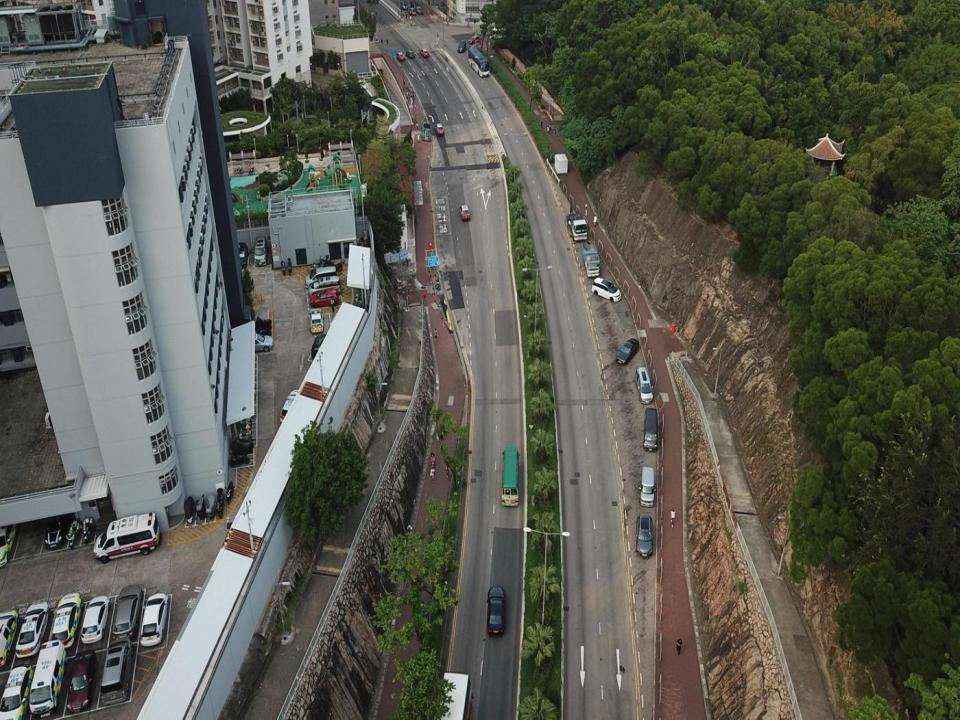bus: (437, 672, 473, 719), (501, 446, 520, 506), (468, 48, 490, 76), (489, 26, 522, 41)
car: (15, 601, 52, 659), (49, 592, 84, 649), (66, 650, 97, 712), (0, 663, 34, 718), (112, 584, 144, 642), (140, 593, 169, 646), (81, 595, 110, 643), (44, 497, 71, 548), (0, 509, 19, 568), (0, 610, 19, 666), (486, 587, 507, 634), (280, 388, 303, 423), (591, 278, 621, 302), (242, 332, 274, 352), (616, 338, 638, 365), (309, 289, 339, 308), (233, 242, 248, 268), (308, 308, 324, 332), (460, 204, 470, 222), (435, 123, 444, 136), (468, 36, 482, 44), (405, 49, 415, 58), (420, 48, 429, 58), (408, 6, 416, 16), (396, 51, 404, 61), (415, 5, 422, 14)
truck: (565, 203, 587, 240), (580, 240, 600, 277)
van: (94, 512, 160, 564), (28, 640, 67, 717), (100, 637, 135, 704), (636, 514, 654, 558), (642, 408, 659, 452), (308, 275, 340, 298), (304, 266, 336, 288), (639, 467, 656, 507), (635, 367, 653, 404), (252, 236, 268, 266), (312, 334, 330, 358), (458, 39, 466, 53), (410, 0, 418, 9), (400, 0, 407, 10)
